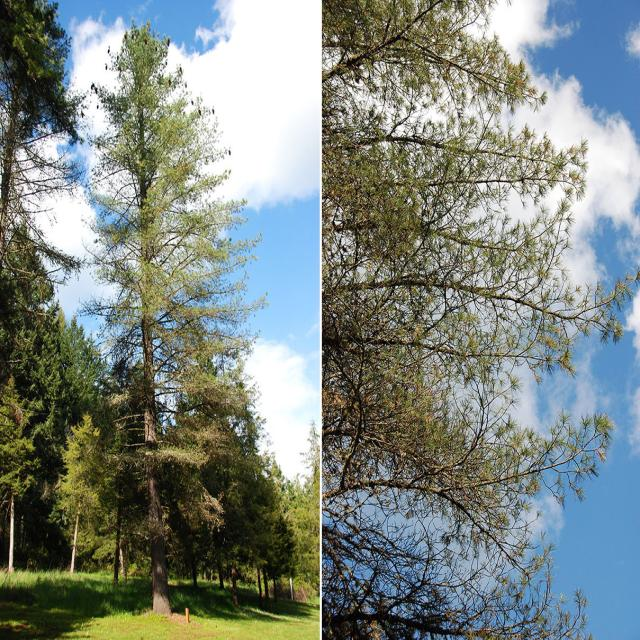Pinus lambertiana: (323, 0, 637, 639), (81, 12, 270, 617)
